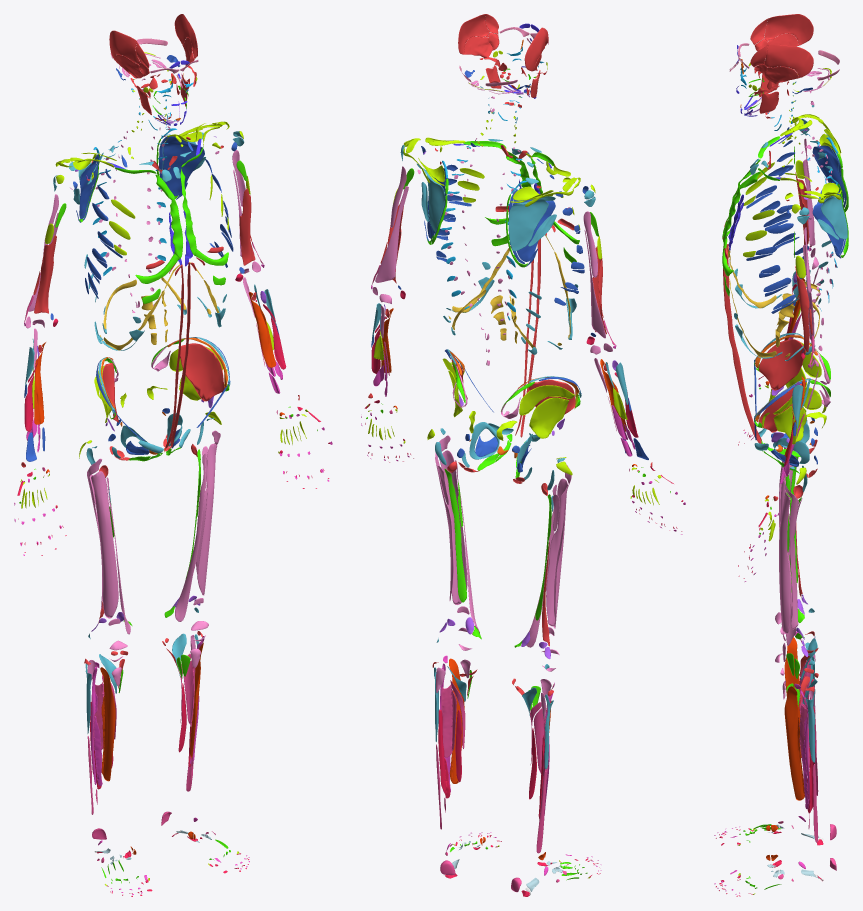
The model's file is muscle-insertions.glb.
The picture shows the model from 3 angles, left to right: view 1: azimuth 30°, elevation 25°; view 2: azimuth 150°, elevation 25°; view 3: azimuth 270°, elevation 25°; orthographic projection. The views are drawn at different scales.
Visible parts, largest first — view 1: Vastus intermedius muscle.or, Iliacus muscle.ol, Subscapularis muscle.ol, Vastus intermedius muscle.ol, Tibialis anterior muscle.or, Vastus medialis muscle.ol, Brachialis muscle.or, Brachialis muscle.ol, Ulnar head of flexor carpi ulnaris.ol, Rectus abdominis muscle.el, Temporalis muscle.o2r; view 2: Infraspinatus muscle.or, Vastus intermedius muscle.ol, Vastus lateralis muscle.or, Gluteus minimus muscle.or, Adductor magnus.el, Medial head of triceps brachii.ol, Tibialis posterior muscle.ol, Gluteus medius muscle.or, Infraspinatus muscle.ol, Vastus intermedius muscle.or, Temporalis muscle.o2l; view 3: Iliacus muscle.or, Tibialis anterior muscle.ol, Vastus intermedius muscle.ol, Temporalis muscle.o2l, Temporalis muscle.o2r, Rectus abdominis muscle.el, Vastus lateralis muscle.ol, Infraspinatus muscle.ol, Subscapularis muscle.or, Gluteus minimus muscle.ol, Brachialis muscle.ol, Iliacus muscle.ol (+17 smaller).
Part boxes in pixels (bbox=[...]): Vastus intermedius muscle.or: bbox=[91, 471, 118, 618]; Iliacus muscle.ol: bbox=[180, 343, 224, 401]; Subscapularis muscle.ol: bbox=[163, 136, 204, 196]; Vastus intermedius muscle.ol: bbox=[197, 443, 217, 595]; Tibialis anterior muscle.or: bbox=[100, 667, 115, 781]; Vastus medialis muscle.ol: bbox=[175, 453, 206, 621]; Brachialis muscle.or: bbox=[34, 235, 56, 313]; Brachialis muscle.ol: bbox=[239, 188, 255, 265]; Ulnar head of flexor carpi ulnaris.ol: bbox=[248, 292, 276, 367]; Rectus abdominis muscle.el: bbox=[170, 262, 190, 446]; Temporalis muscle.o2r: bbox=[109, 30, 139, 64]; Infraspinatus muscle.or: bbox=[508, 196, 555, 251]; Vastus intermedius muscle.ol: bbox=[439, 450, 467, 604]; Vastus lateralis muscle.or: bbox=[546, 464, 571, 626]; Gluteus minimus muscle.or: bbox=[529, 397, 569, 438]; Adductor magnus.el: bbox=[444, 469, 481, 639]; Medial head of triceps brachii.ol: bbox=[375, 186, 408, 282]; Tibialis posterior muscle.ol: bbox=[441, 684, 456, 757]; Gluteus medius muscle.or: bbox=[519, 385, 574, 415]; Infraspinatus muscle.ol: bbox=[417, 163, 445, 231]; Vastus intermedius muscle.or: bbox=[553, 478, 567, 628]; Temporalis muscle.o2l: bbox=[458, 14, 489, 54]; Iliacus muscle.or: bbox=[758, 339, 805, 390]; Tibialis anterior muscle.ol: bbox=[784, 686, 804, 800]; Vastus intermedius muscle.ol: bbox=[779, 490, 790, 633]; Temporalis muscle.o2l: bbox=[764, 44, 813, 77]; Temporalis muscle.o2r: bbox=[764, 14, 813, 45]; Rectus abdominis muscle.el: bbox=[723, 247, 761, 443]; Vastus lateralis muscle.ol: bbox=[783, 479, 798, 629]; Infraspinatus muscle.ol: bbox=[820, 194, 847, 239]; Subscapularis muscle.or: bbox=[812, 145, 844, 202]; Gluteus minimus muscle.ol: bbox=[774, 405, 806, 441]; Brachialis muscle.ol: bbox=[795, 266, 809, 352]; Iliacus muscle.ol: bbox=[758, 382, 805, 432].
Bounding box in the file's own units: 0.6605 × 1.65 × 0.2414.
